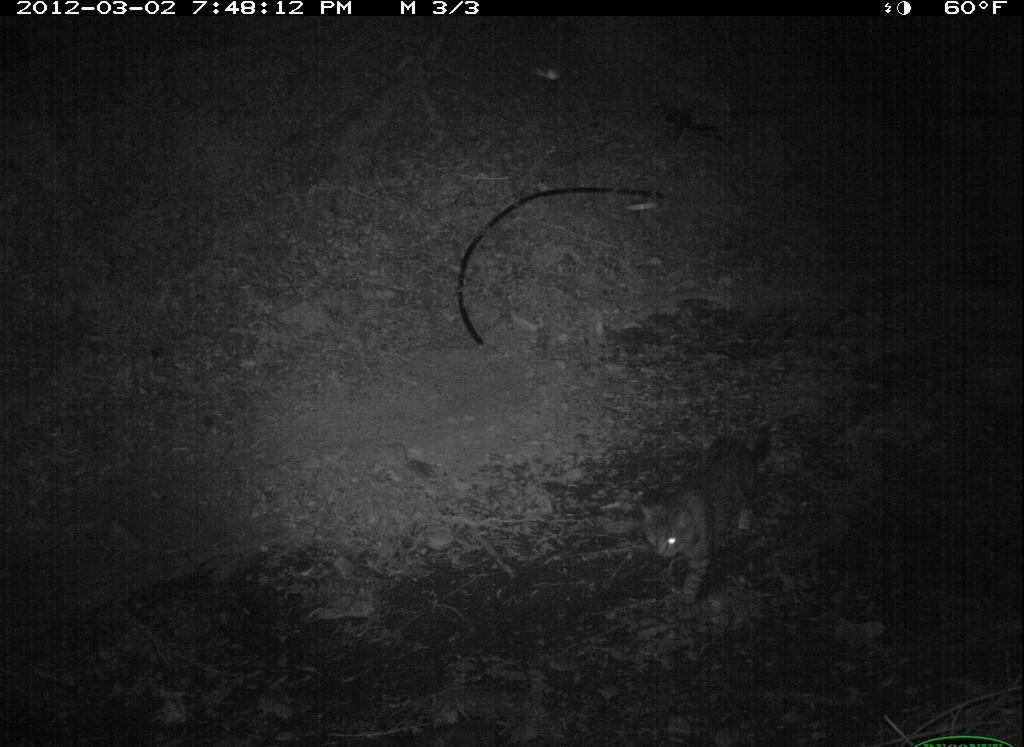cat: (634, 418, 779, 612)
